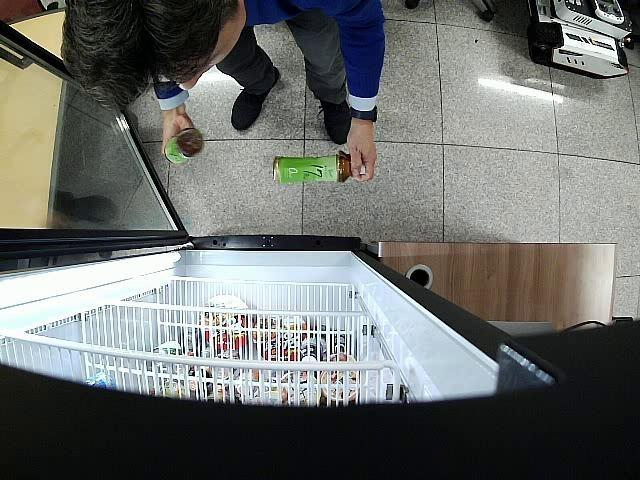19_17cha: (272, 155, 365, 182), (162, 128, 205, 167)
